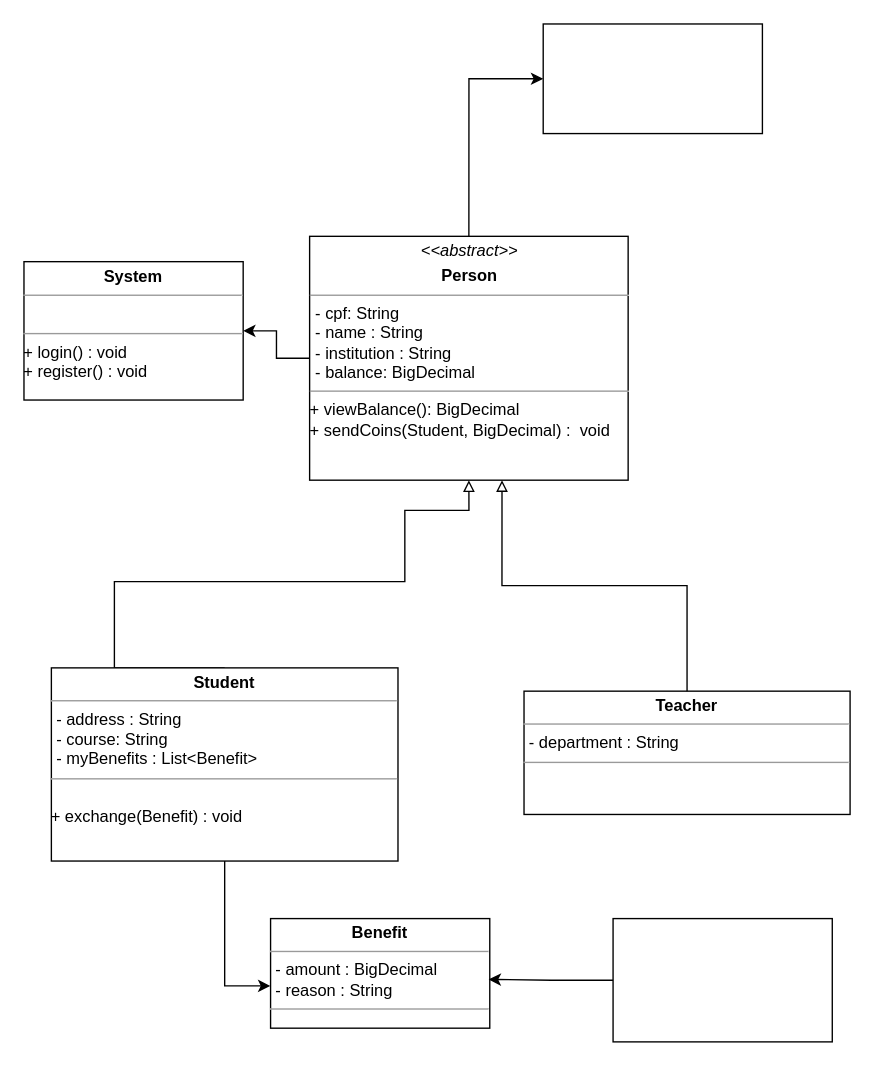
This 874x1066 diagram has some shape labels left out. Each missing label, with the box of its shape:
Partner + addBenefit(): void: (612, 917, 832, 1042)
Transaction - amount : BigDecimal - reason : String: (542, 23, 762, 134)
